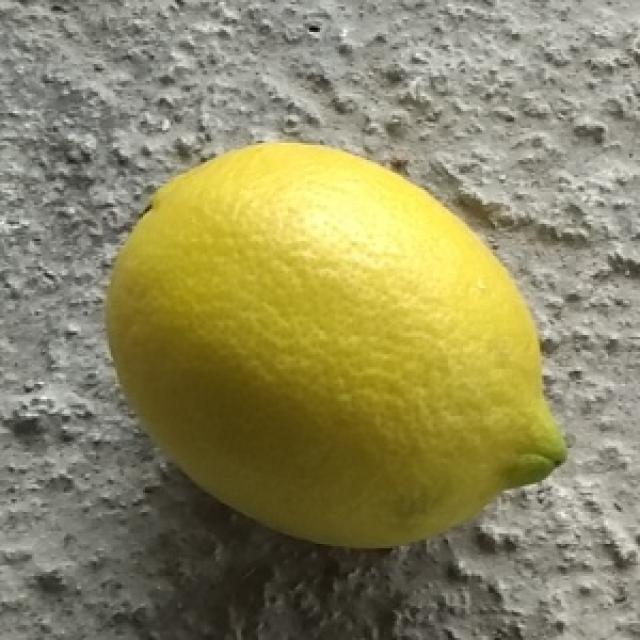Ripe: (102, 133, 572, 555)
